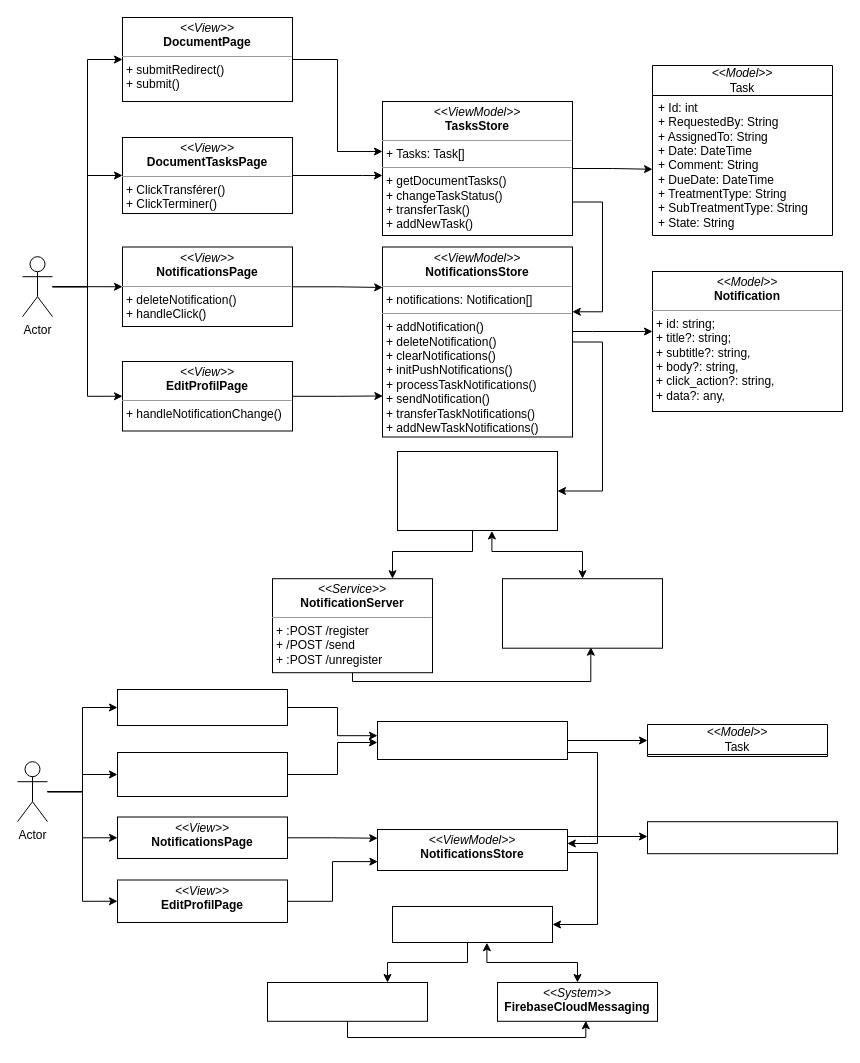
This 860x1063 diagram has some shape labels left out. Each missing label, with the box of its shape:
<< System >> PushNotification: (392, 906, 552, 942)
<< System >> PushNotification + register() + unregister(): (396, 450, 558, 530)
<<Model>> Notification: (646, 821, 838, 854)
<<Service>> NotificationServer: (266, 982, 428, 1021)
<<System>> FirebaseCloudMessaging + send(): (502, 578, 662, 648)
<<View>> DocumentPage: (116, 688, 288, 726)
<<View>> DocumentTasksPage: (116, 752, 288, 796)
<<ViewModel>> TasksStore: (376, 720, 568, 760)
